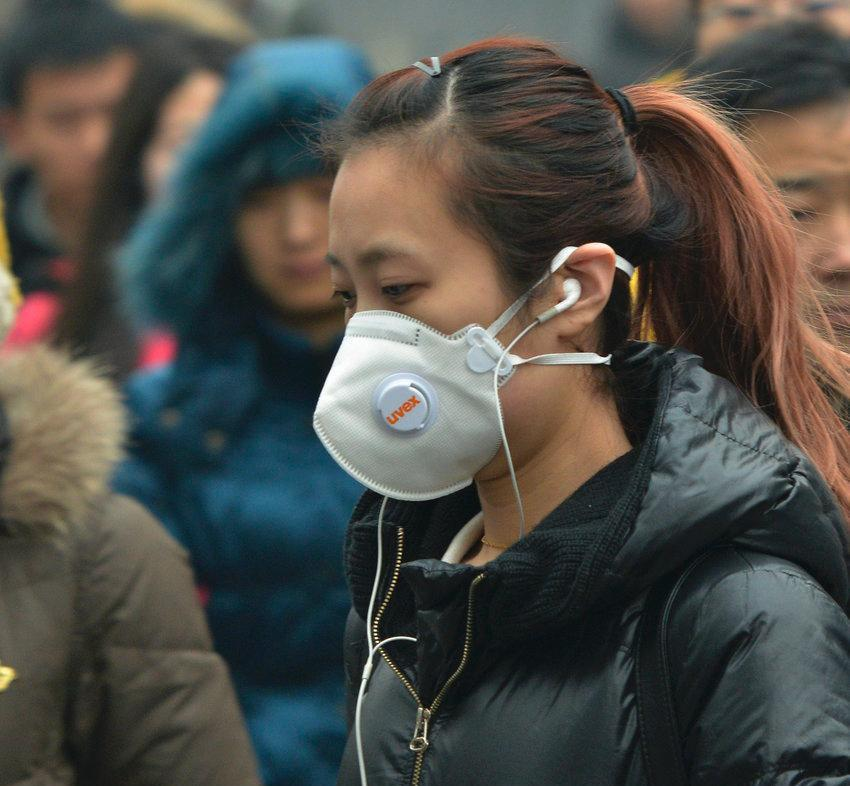NONE: (741, 163, 850, 349), (244, 172, 370, 311), (35, 93, 148, 215)
OK: (305, 226, 566, 487)
